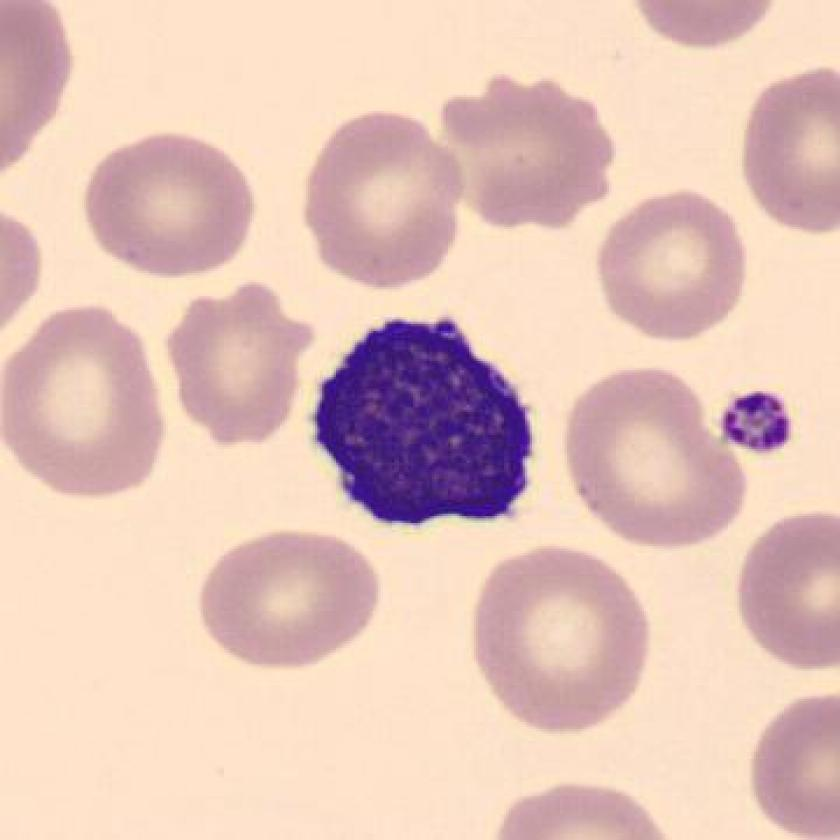lymphocyte: (300, 307, 549, 550)
